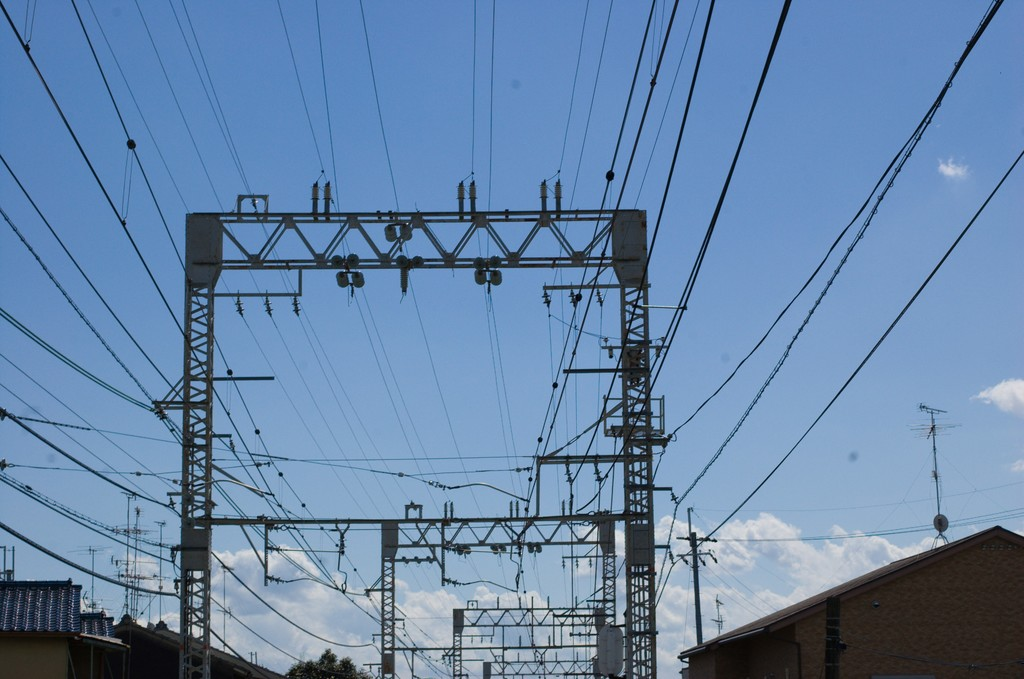Tree: (284, 647, 373, 679)
